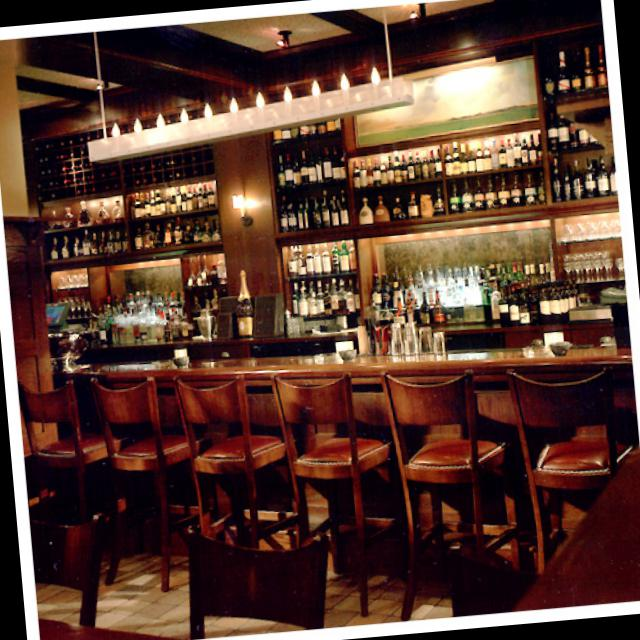2019: (27, 112, 212, 200)
bar stool: (50, 342, 637, 528)
bottle crop: (232, 269, 252, 338), (429, 289, 445, 323), (404, 189, 419, 219), (357, 195, 371, 225), (388, 195, 404, 219), (372, 195, 386, 222), (77, 198, 90, 226), (461, 180, 472, 210), (449, 184, 461, 211)
bottles occluded: (477, 259, 578, 324), (95, 287, 189, 345), (351, 148, 442, 186), (549, 152, 616, 201), (126, 182, 214, 216), (276, 187, 345, 230)
ceiling beam: (13, 0, 495, 109)
chair -occluded-: (382, 368, 515, 618), (269, 368, 403, 612), (91, 374, 212, 585), (173, 372, 303, 553), (15, 374, 131, 558)
chair cushion: (187, 529, 327, 637)
chair part: (26, 513, 105, 622)
floor -X: (27, 492, 567, 640)
glass ceiling: (388, 322, 402, 357), (430, 331, 446, 356)
lamp crop: (87, 10, 413, 166)
showcase occluded: (19, 0, 629, 362)
table lamp: (507, 439, 640, 611), (36, 613, 177, 640)
wall clock: (0, 40, 61, 510)
